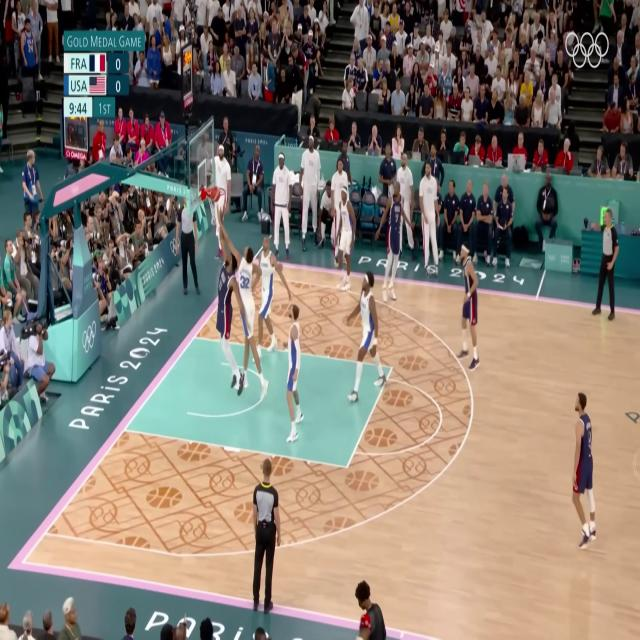player: (566, 388, 606, 551), (252, 224, 288, 370), (232, 232, 262, 401), (344, 269, 379, 411), (277, 286, 306, 441), (380, 183, 417, 304), (214, 239, 238, 416), (454, 236, 480, 382), (332, 182, 357, 268)
